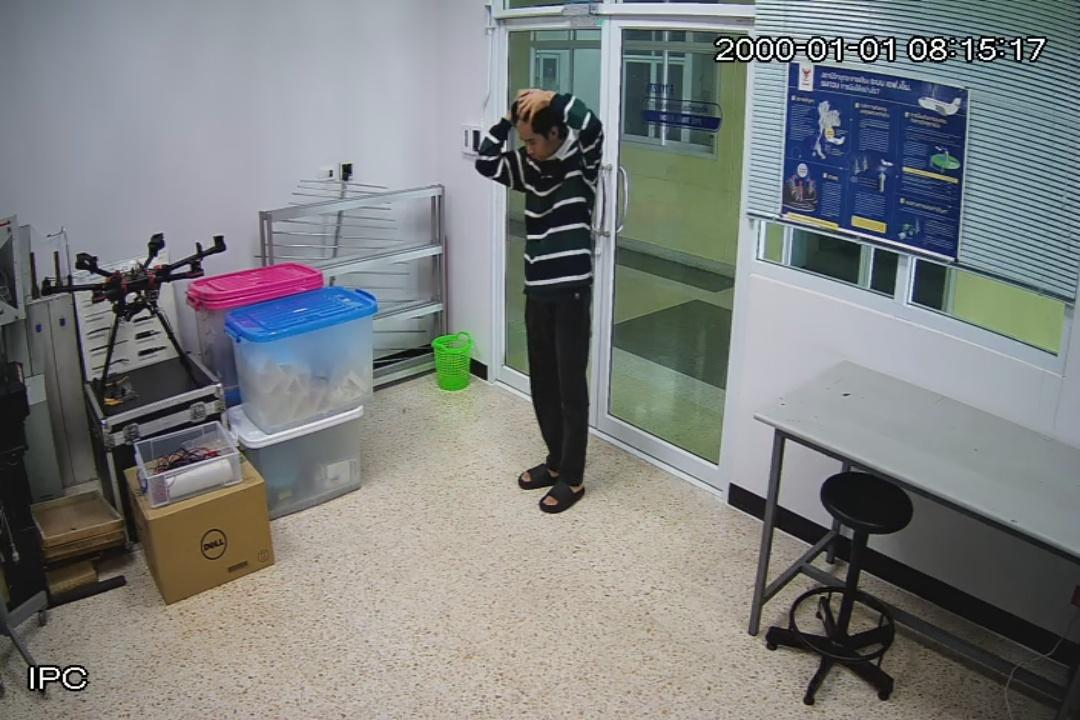normal: (479, 87, 605, 516)
